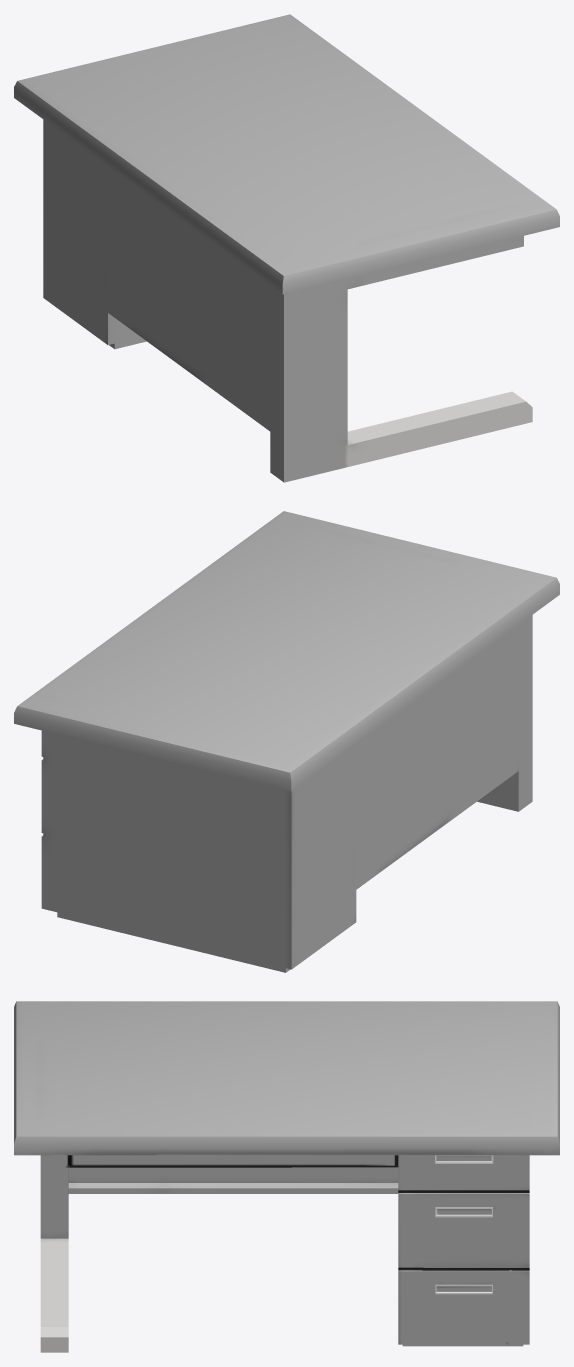
The model's file is Company_desk_A.fbx.
3 views of the same model, one above another, from view 1: azimuth 30°, elevation 25°; view 2: azimuth 150°, elevation 25°; view 3: azimuth 270°, elevation 25° (orthographic).
Parts seen in each view (by area): view 1: Box234; view 2: Box234; view 3: Box234.
Part boxes in pixels (x1,y1,x2,y2): Box234: (14, 14, 559, 482); Box234: (14, 511, 559, 972); Box234: (14, 1001, 559, 1352).
Bounding box in the file's own units: 0.6696 × 0.5091 × 1.12.
Materials: 1 (1 with a texture image).
